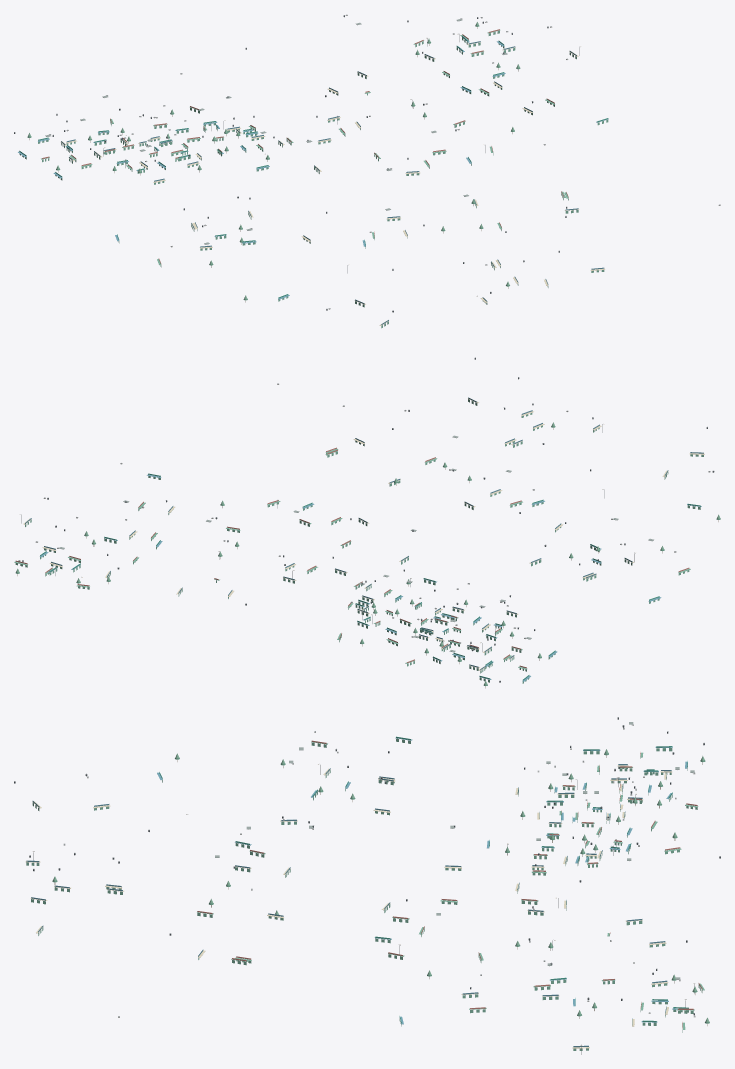
3 views of the same model, one above another, from view 1: azimuth 30°, elevation 25°; view 2: azimuth 150°, elevation 25°; view 3: azimuth 270°, elevation 25° (orthographic). The views are drawn at different scales.
Visible parts, largest first — view 1: Station neighborhood architectural details; view 2: Station neighborhood architectural details; view 3: Station neighborhood architectural details.
Boxes of the visible parts, <box> form: Station neighborhood architectural details: <box>14,14,720,328</box>; Station neighborhood architectural details: <box>14,357,720,688</box>; Station neighborhood architectural details: <box>14,717,720,1054</box>.
Bounding box in the file's own units: 470 × 65.33 × 446.
